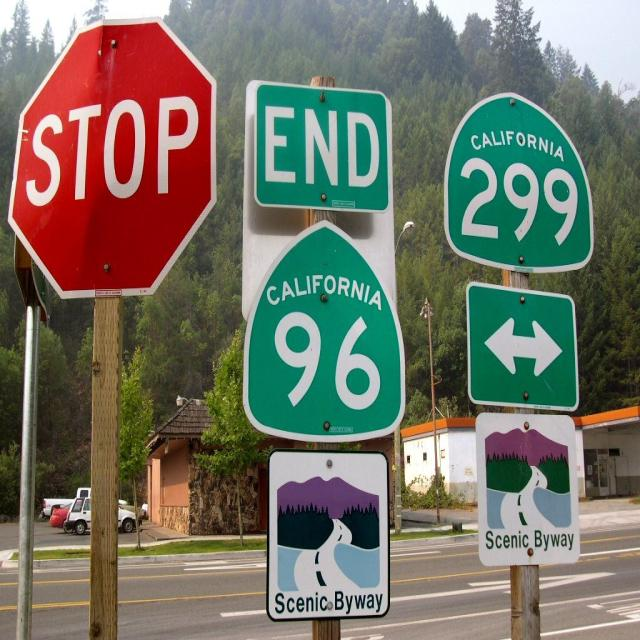Stop-sign: (5, 14, 217, 298)
